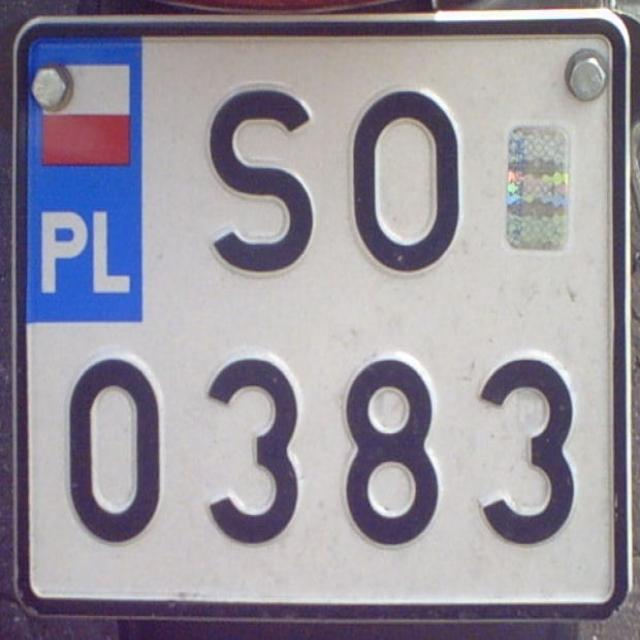pl_license_plate: (22, 26, 619, 608)
